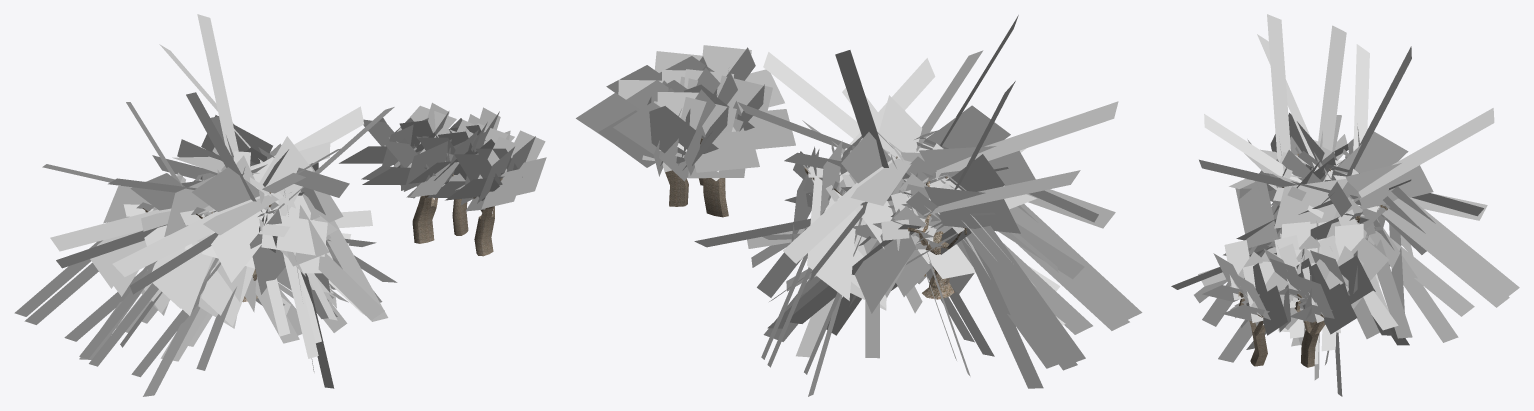
Rendered from trees4.fbx.
The picture shows the model from 3 angles, left to right: view 1: azimuth 30°, elevation 25°; view 2: azimuth 150°, elevation 25°; view 3: azimuth 270°, elevation 25°; orthographic projection. The views are drawn at different scales.
Parts seen in each view (by area): view 1: Plane205, Plane210, Plane046, Plane213, Plane246, Plane124, Plane225, Plane034, Plane216, Plane235, Plane222, Plane243 (+50 smaller); view 2: Plane142, Plane223, Plane232, Plane153, Plane087, Plane136, Plane060, Plane040, Plane213, Plane253, Plane234, Plane214 (+56 smaller); view 3: Plane058, Plane211, Plane064, Plane067, Plane130, Plane072, Plane069, Plane052, Plane246, Plane048, Plane055, Plane151 (+41 smaller).
Boxes of the visible parts, box(x1,y1,x2,y2) form: Plane205: box(112, 184, 283, 276); Plane210: box(211, 187, 272, 282); Plane046: box(197, 14, 238, 155); Plane213: box(192, 167, 278, 211); Plane246: box(261, 213, 327, 256); Plane124: box(50, 208, 215, 251); Plane225: box(152, 216, 202, 308); Plane034: box(318, 253, 384, 320); Plane216: box(259, 136, 312, 216); Plane235: box(251, 106, 363, 182); Plane222: box(201, 266, 254, 326); Plane243: box(249, 209, 285, 294); Plane142: box(974, 225, 1085, 363); Plane223: box(1009, 204, 1142, 321); Plane232: box(922, 101, 1118, 182); Plane153: box(924, 186, 1020, 233); Plane087: box(854, 209, 915, 313); Plane136: box(961, 238, 1043, 388); Plane060: box(807, 175, 849, 293); Plane040: box(783, 147, 901, 263); Plane213: box(923, 105, 1010, 148); Plane253: box(694, 130, 759, 172); Plane234: box(919, 146, 1035, 185); Plane214: box(763, 52, 860, 138); Plane058: box(1393, 195, 1519, 297); Plane211: box(1267, 14, 1290, 161); Plane064: box(1382, 208, 1509, 307); Plane067: box(1352, 108, 1494, 200); Plane130: box(1317, 25, 1346, 151); Plane072: box(1274, 179, 1347, 228); Plane069: box(1345, 163, 1433, 209); Plane052: box(1369, 219, 1458, 342); Plane246: box(1235, 180, 1278, 248); Plane048: box(1322, 131, 1408, 181); Plane055: box(1367, 235, 1474, 316); Plane151: box(1353, 44, 1369, 151).
Size of the model in its own units: 398 by 249 by 260.
Materials: 1 (1 with a texture image).
